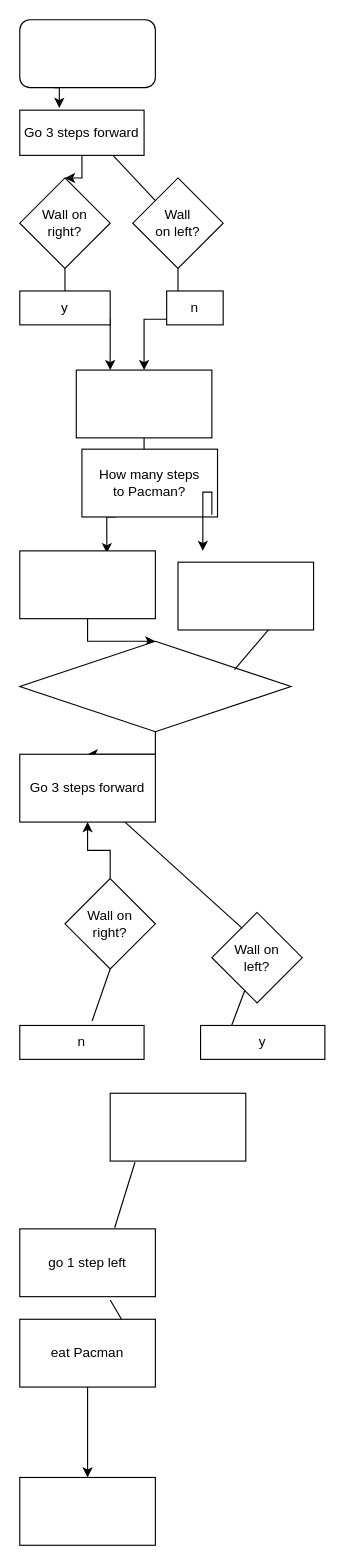
The diagram is 345 pixels wide and 1565 high, and some of its shapes have lost their labels. The box of each missing label's shape, as (x1, y1, x2, y2) in pixels:
12 on the right: (19, 550, 155, 619)
12>6 take 6: (19, 640, 291, 732)
6 on the left: (177, 561, 314, 630)
display end sign: (19, 1476, 155, 1545)
Go 1 step forward: (75, 369, 212, 438)
go 4 steps down: (109, 1092, 246, 1161)
Start: (19, 19, 155, 88)
